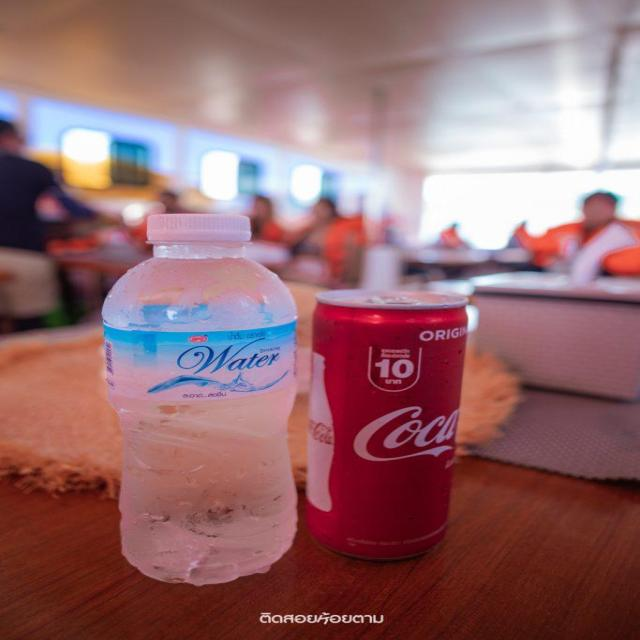bottle: (92, 202, 310, 596)
